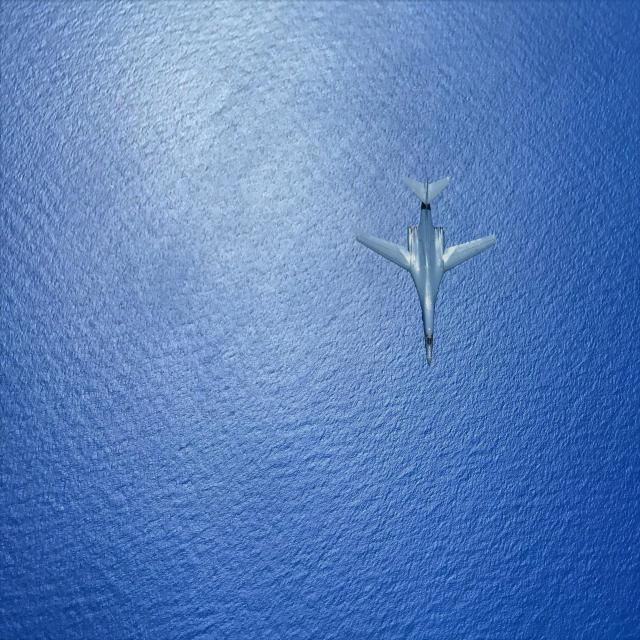MIL_Plane: (390, 169, 462, 361)
